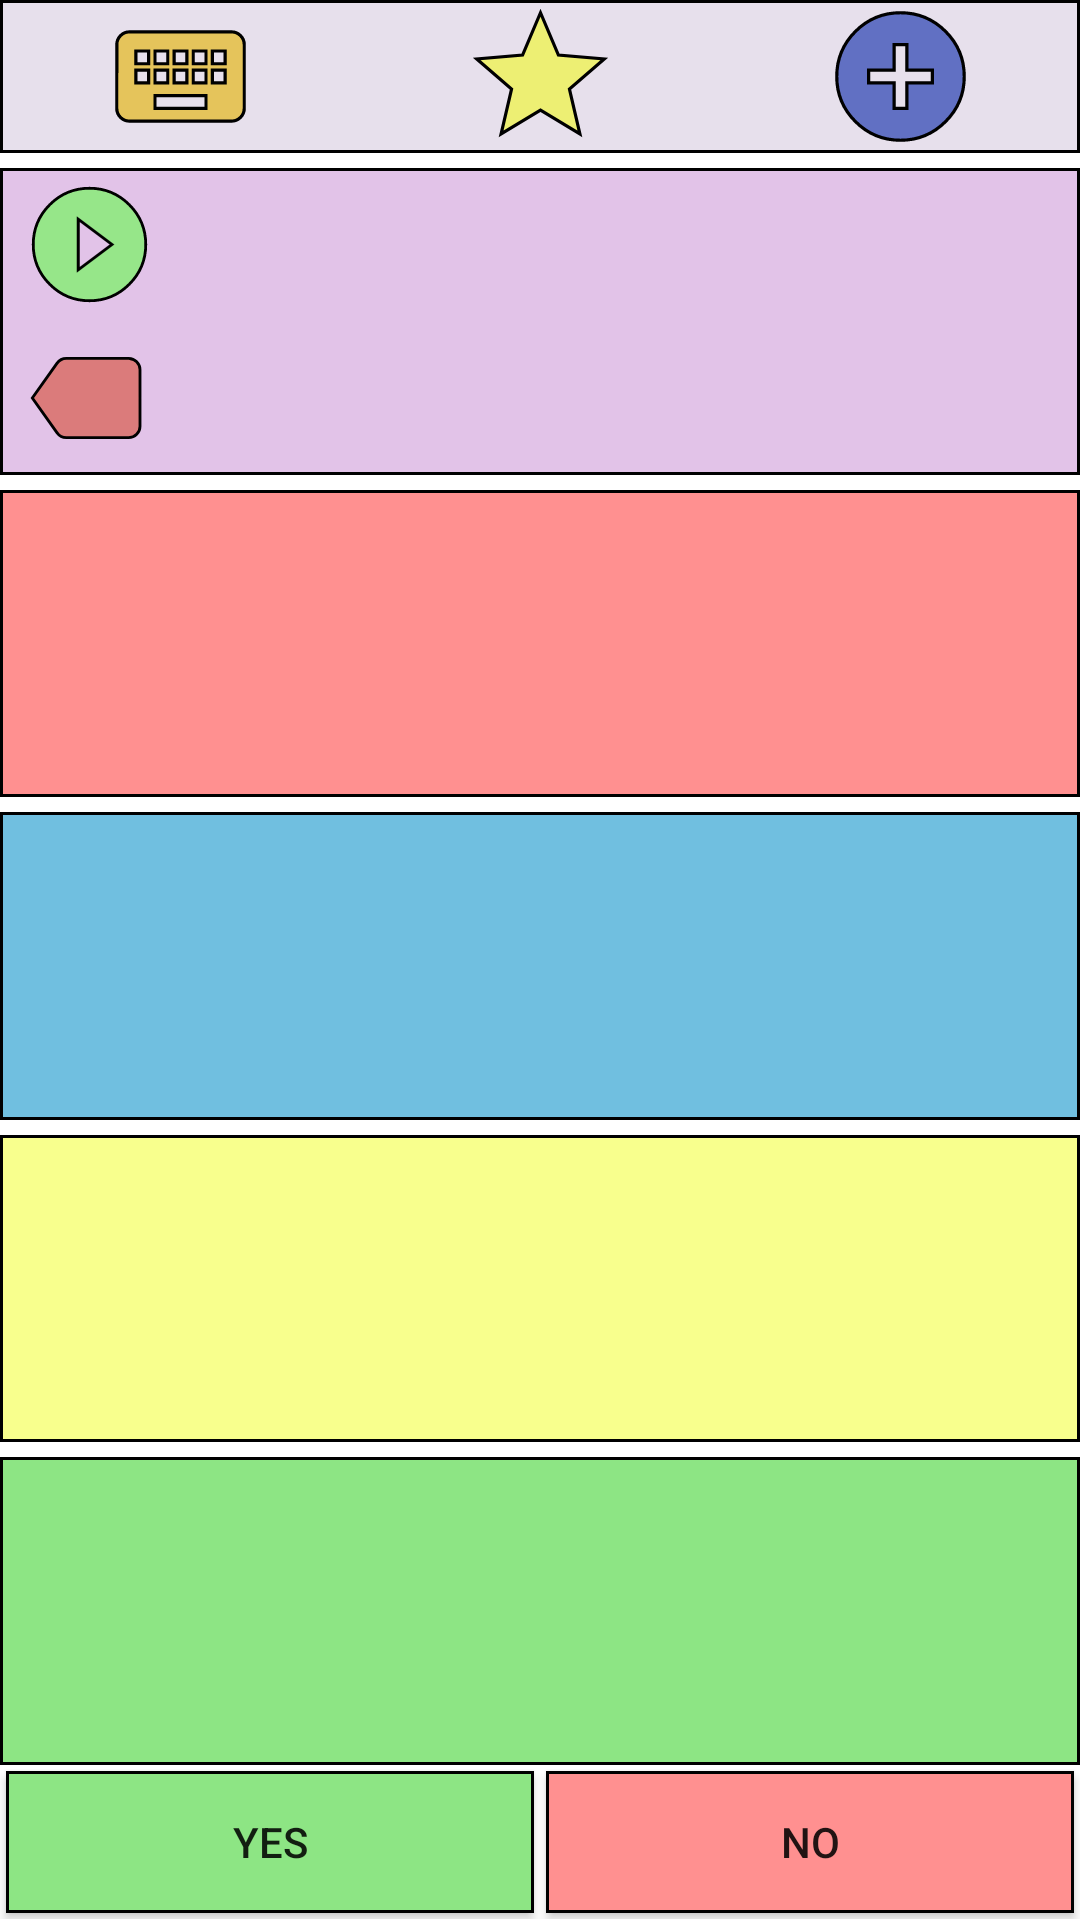

Named icons in this screenshot (1080px×1920px) and their bounding boxes, (x1, y1, x2, y2):
play circle: (31, 186, 148, 303)
